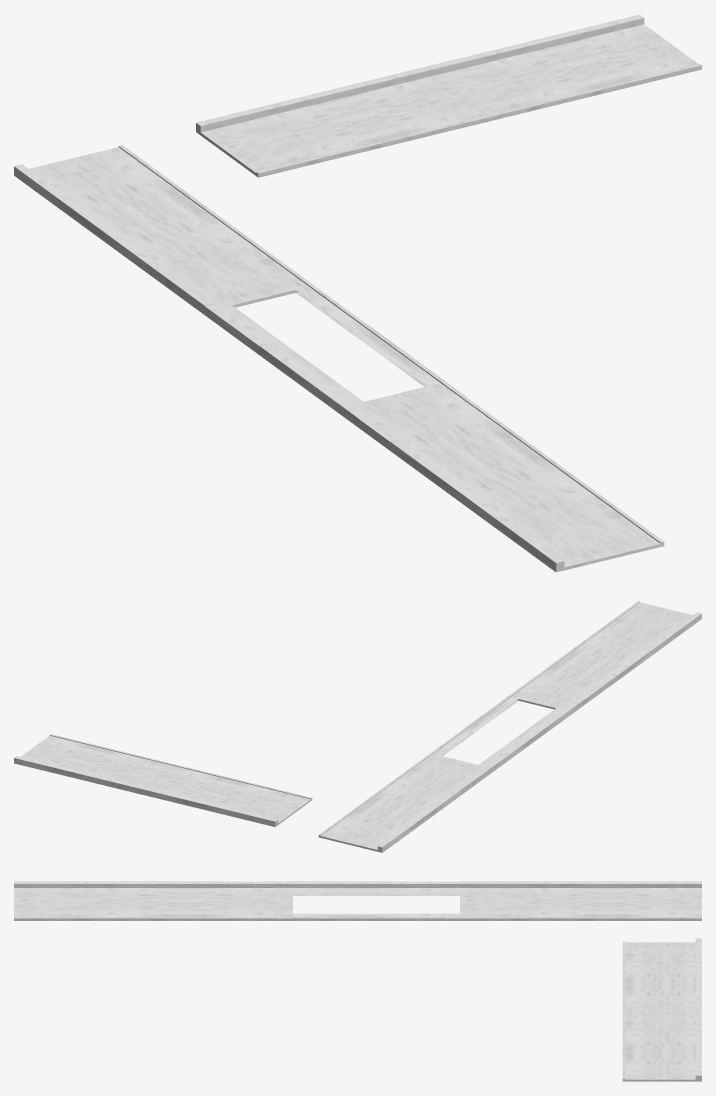
The model's file is tezgahyeni.fbx.
3 renders of one model, top to bottom at view 1: azimuth 30°, elevation 25°; view 2: azimuth 150°, elevation 25°; view 3: azimuth 270°, elevation 25°, orthographic. The views are drawn at different scales.
Visible parts, largest first — view 1: Cube.108, Cube.097, Cube.109, Cube.110, Cube.024, Cube.022, Cube.035; view 2: Cube.108, Cube.097, Cube.109, Cube.110, Cube.024, Cube.022; view 3: Cube.108, Cube.097, Cube.110, Cube.109, Cube.024, Cube.022, Cube.035.
Boxes of the visible parts, x1,y1,x2,y2 form: Cube.108: (336, 383, 664, 572); Cube.097: (14, 145, 312, 314); Cube.109: (196, 68, 480, 177); Cube.110: (418, 14, 701, 123); Cube.024: (206, 286, 463, 418); Cube.022: (179, 296, 396, 451); Cube.035: (309, 284, 499, 423); Cube.108: (511, 601, 701, 709); Cube.097: (318, 752, 494, 852); Cube.109: (144, 766, 312, 826); Cube.110: (14, 734, 180, 795); Cube.024: (433, 697, 585, 770); Cube.022: (481, 684, 605, 780); Cube.108: (14, 881, 292, 920); Cube.097: (460, 881, 701, 920); Cube.110: (622, 1007, 701, 1081); Cube.109: (622, 938, 701, 1010); Cube.024: (264, 881, 460, 920); Cube.022: (225, 881, 459, 887); Cube.035: (222, 917, 459, 918).
Bounding box in the file's own units: 422 × 6.54 × 634.
1 material, 1 textured.
